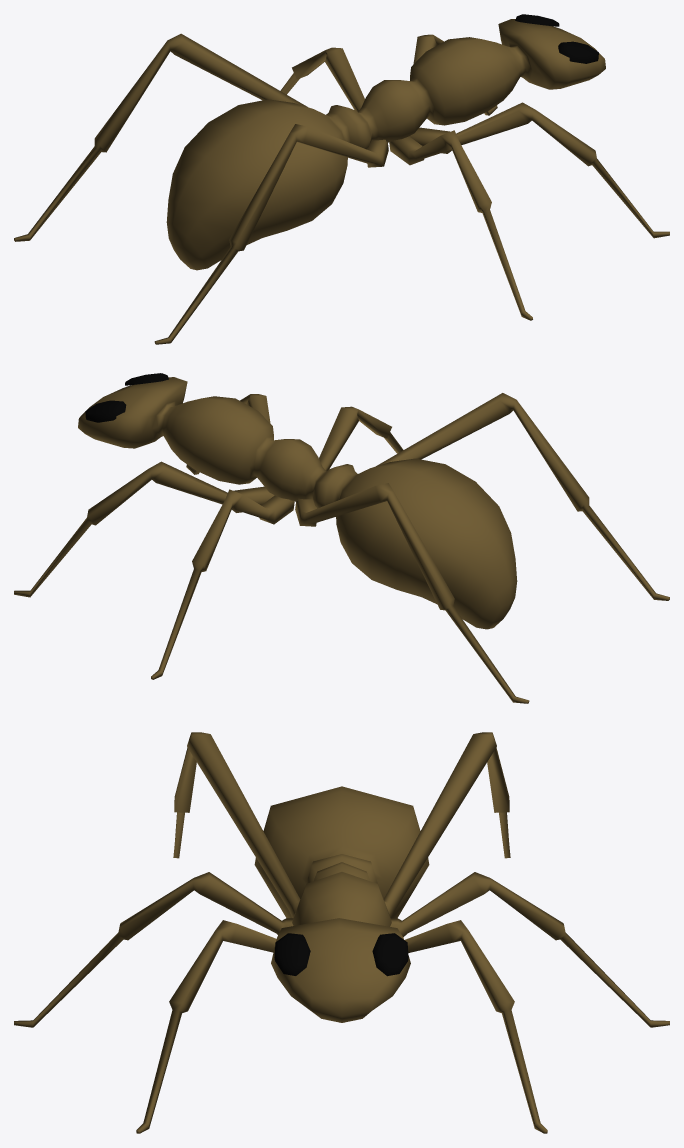
Rendered from ant_mesh.fbx.
3 renders of one model, top to bottom at view 1: azimuth 30°, elevation 25°; view 2: azimuth 150°, elevation 25°; view 3: azimuth 270°, elevation 25°, orthographic. The views are drawn at different scales.
Visible parts, largest first — view 1: Body; view 2: Body; view 3: Body.
Boxes of the visible parts, box(x1,y1,x2,y2) form: Body: box(14, 14, 669, 344); Body: box(14, 373, 669, 703); Body: box(14, 732, 669, 1133).
Size of the model in its own units: 149 by 48.95 by 140.
